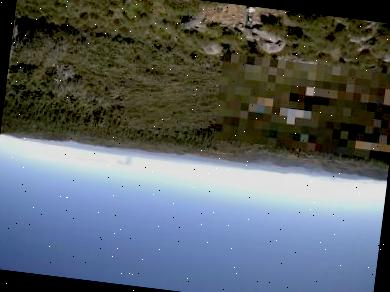smoke: (112, 149, 135, 167)
